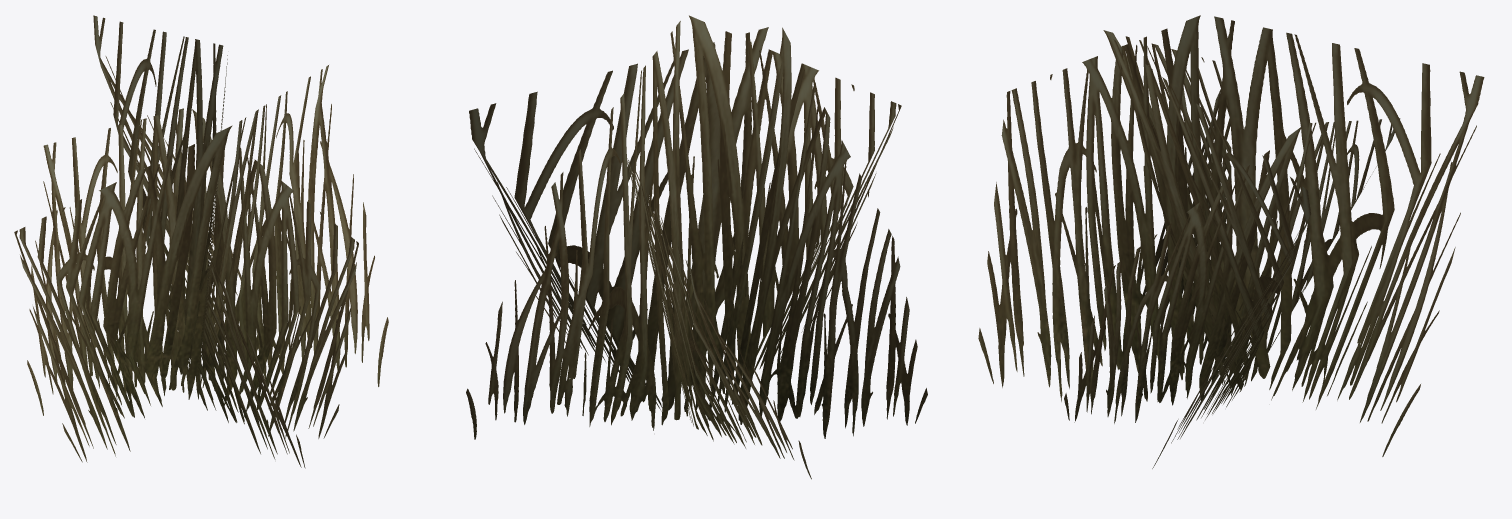
The model's file is SM_GrassClump_02.FBX.
3 views of the same model, side by side, from view 1: azimuth 30°, elevation 25°; view 2: azimuth 150°, elevation 25°; view 3: azimuth 270°, elevation 25° (orthographic). The views are drawn at different scales.
Visible parts, largest first — view 1: SM_GrassClump_02; view 2: SM_GrassClump_02; view 3: SM_GrassClump_02.
Part boxes in pixels (x1,y1,x2,y2): SM_GrassClump_02: (14, 15, 388, 468); SM_GrassClump_02: (466, 15, 927, 479); SM_GrassClump_02: (978, 15, 1484, 468).
Size of what is drawn, in the model's own units: 46.76 by 54.54 by 47.1.
